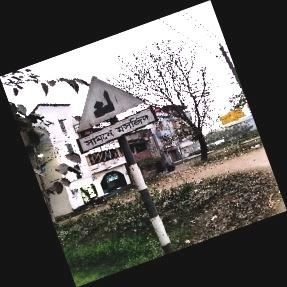Mosque in front: (75, 77, 156, 156)
